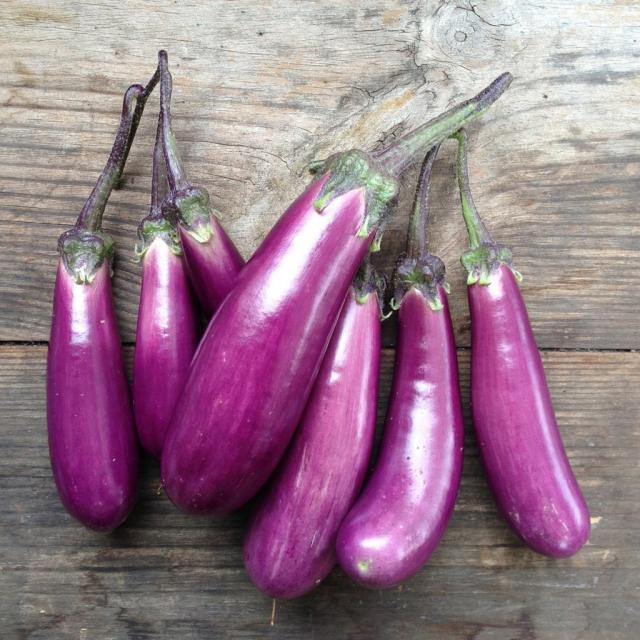Eggplant: (464, 244, 601, 560), (39, 209, 132, 527), (242, 142, 399, 320), (385, 257, 463, 577), (128, 208, 186, 421)
